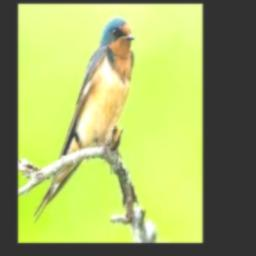Swallow: (32, 17, 134, 223)
